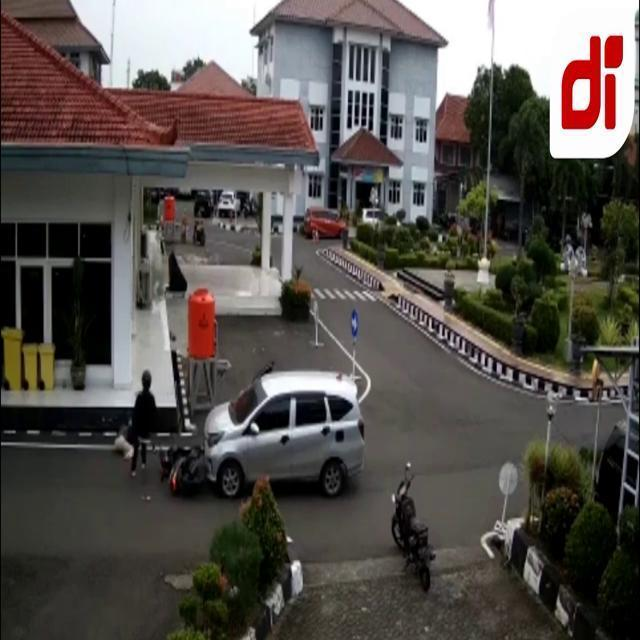accident: (157, 370, 366, 502)
non-accident: (304, 206, 406, 244), (190, 190, 244, 220)
